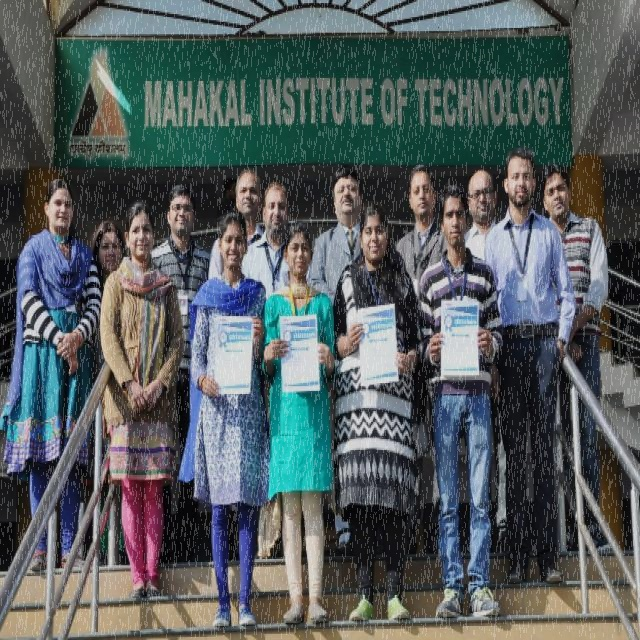pessoa: (479, 142, 578, 587), (326, 196, 426, 626), (175, 205, 274, 630), (0, 178, 105, 574), (413, 180, 505, 620), (95, 198, 186, 604), (255, 215, 338, 629), (540, 165, 609, 554), (148, 179, 212, 565), (394, 160, 449, 559), (463, 165, 503, 558), (306, 160, 366, 306), (207, 166, 268, 286), (89, 215, 130, 392), (240, 177, 292, 299), (206, 170, 239, 262)
